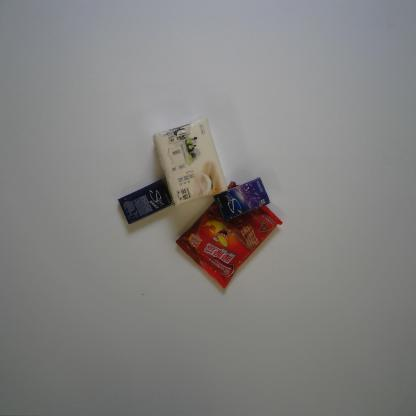Dessert: (174, 181, 283, 290)
Gum: (116, 178, 174, 225), (213, 177, 271, 223)
Tissue: (152, 116, 228, 208)
